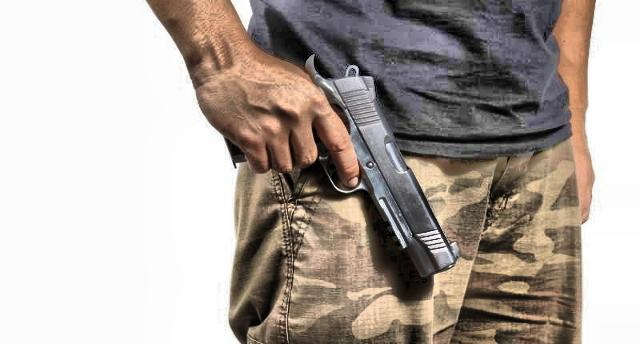pistol: (224, 46, 456, 274)
